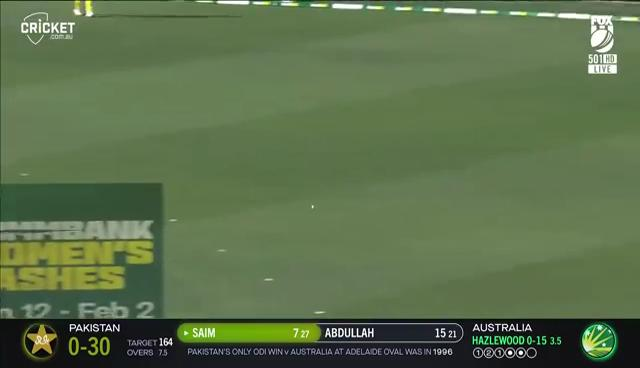ball: (298, 194, 328, 219)
